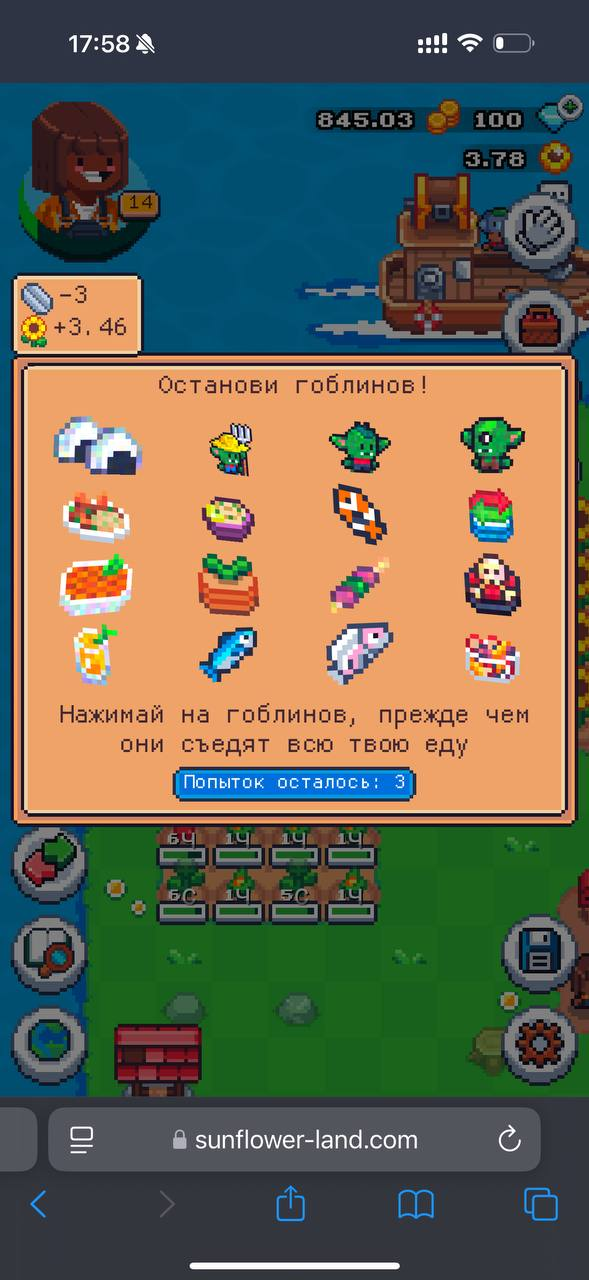capcha_goblin: (458, 415, 527, 474), (329, 420, 393, 474), (207, 422, 252, 477)
